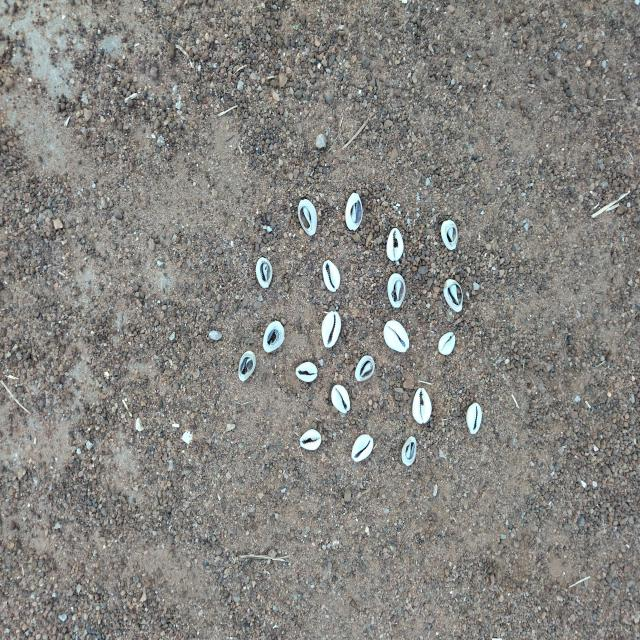facedown: (262, 318, 286, 354), (296, 198, 319, 235), (344, 191, 364, 231), (387, 272, 408, 310), (443, 277, 465, 313), (253, 257, 276, 291), (354, 352, 376, 385), (236, 349, 256, 382), (442, 220, 461, 252), (399, 434, 416, 468)
faceup: (383, 320, 412, 356), (349, 430, 375, 466), (319, 310, 344, 347), (412, 386, 433, 428), (321, 257, 342, 293), (385, 226, 403, 263), (464, 402, 484, 435), (330, 383, 351, 414), (295, 360, 320, 384), (436, 330, 457, 358), (300, 429, 323, 453)
